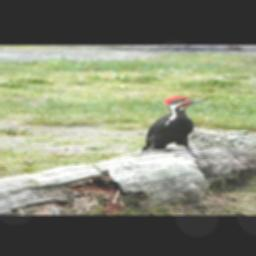Woodpecker: (140, 92, 209, 154)
